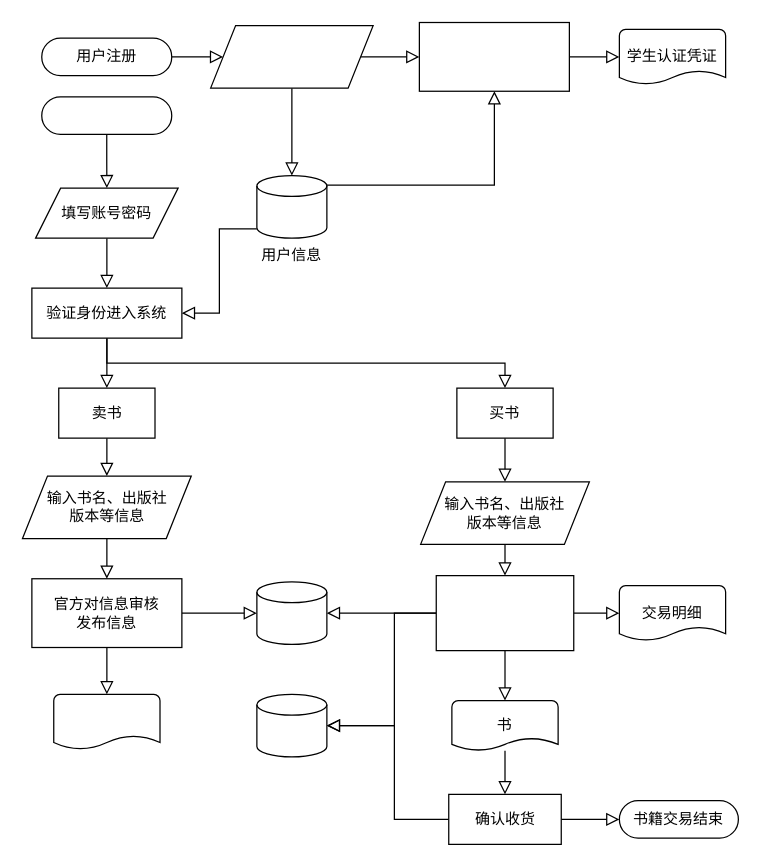
The diagram is 760 pixels wide and 866 high, and some of its shapes have lost their labels. Here are the shapes that lost their labels. From the top down, the centre of each, then its label:
[291,56]: 填写账号、密码 院校、专业 等信息
[493,56]: 官方对学生认证信息 进行审核
[106,115]: 用户登录
[291,612]: 书籍库存
[504,612]: 查询库存 与买家沟通并下单
[106,721]: 展示书籍
[291,725]: 交易信息
